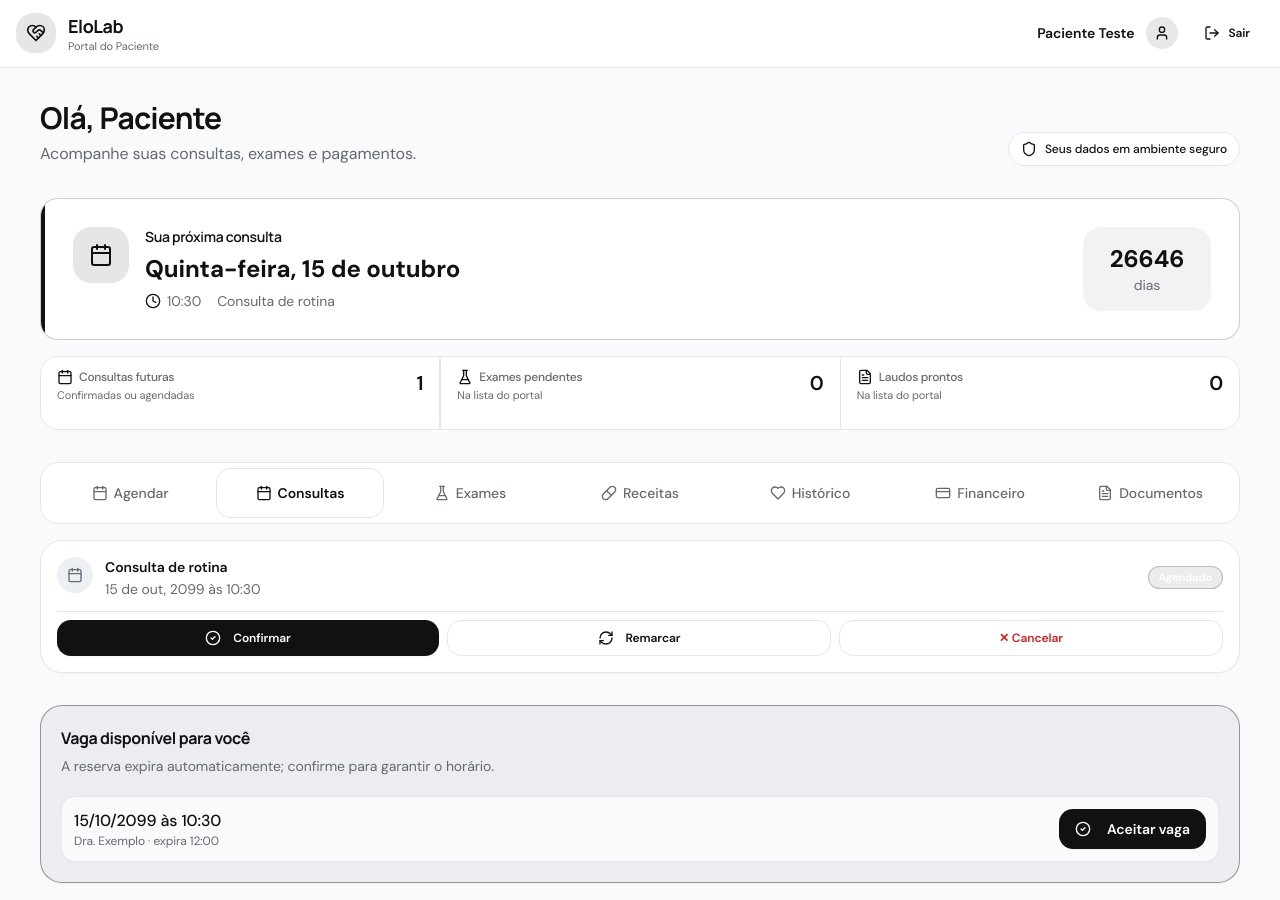
PortalPaciente — cancelamento de consulta › aceita a vaga e atualiza a lista de espera
This screenshot has width=1280, height=900.
What coordinates should you click on to do the following:
click the button "Aceitar vaga"
I would click on:
 (1132, 828)
Its box is [1059, 808, 1206, 848].
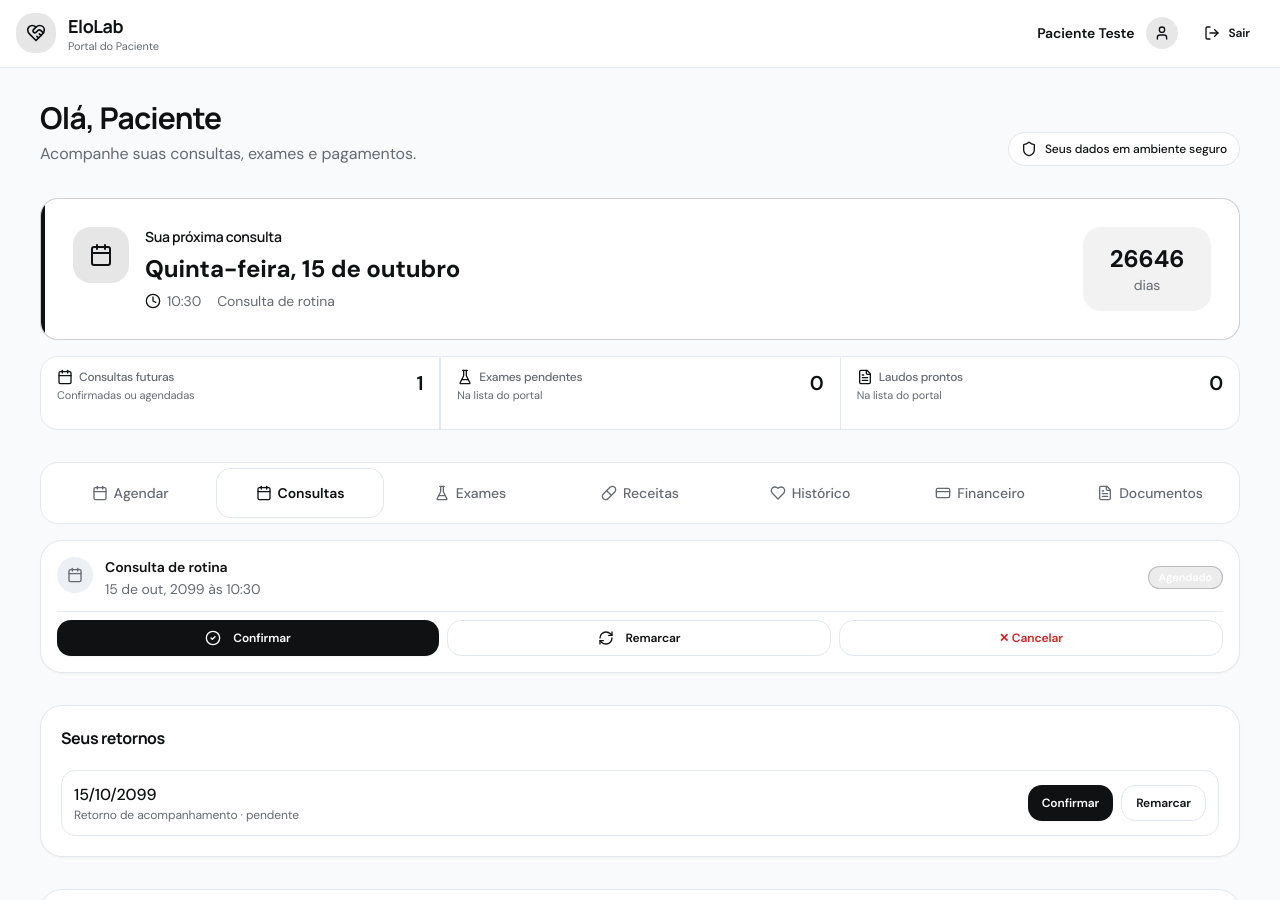
Result: the heading "Vaga disponível para você" is gone
